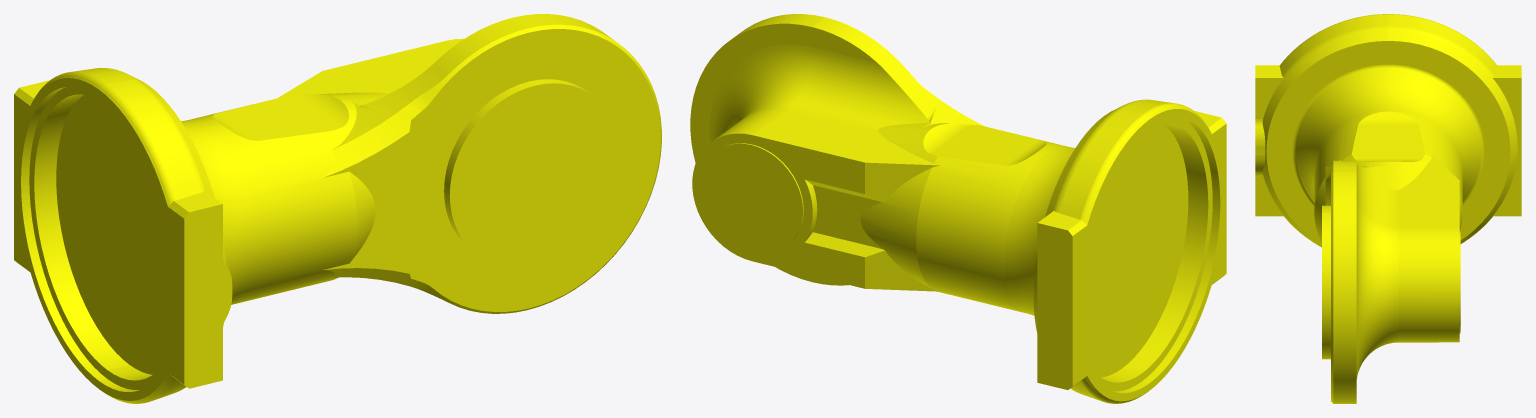
The picture shows the model from 3 angles, left to right: view 1: azimuth 30°, elevation 25°; view 2: azimuth 150°, elevation 25°; view 3: azimuth 270°, elevation 25°; orthographic projection. The views are drawn at different scales.
Parts seen in each view (by area): view 1: Mesh_0; view 2: Mesh_0; view 3: Mesh_0.
Part boxes in pixels (x1,y1,x2,y2): Mesh_0: (14,14,661,403); Mesh_0: (690,14,1226,403); Mesh_0: (1255,14,1521,403).
Size of the model in its own units: 0.3723 by 0.208 by 0.2076.
